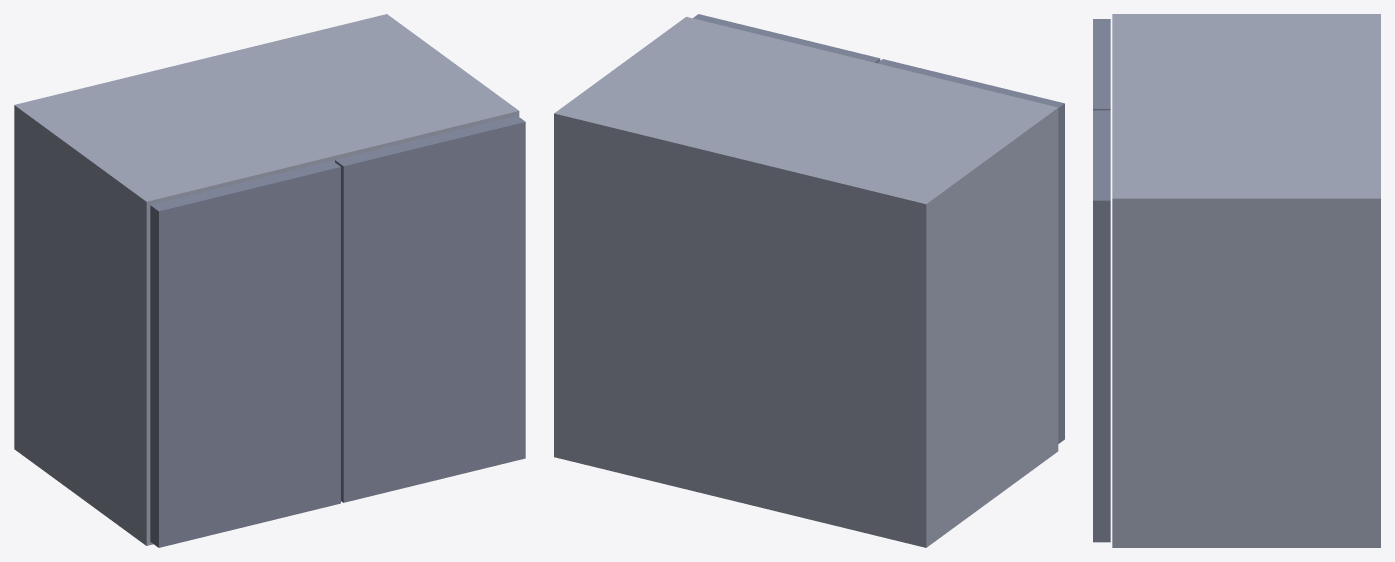
Rendered from wall-cabinet.fbx.
3 views of the same model, side by side, from view 1: azimuth 30°, elevation 25°; view 2: azimuth 150°, elevation 25°; view 3: azimuth 270°, elevation 25° (orthographic).
Parts seen in each view (by area): view 1: above_counter_cabinet, R_door, L_door; view 2: above_counter_cabinet, R_door, L_door; view 3: above_counter_cabinet, L_door, R_door.
Part boxes in pixels (bbox=[...]): above_counter_cabinet: bbox=[14, 14, 519, 545]; R_door: bbox=[150, 160, 340, 547]; L_door: bbox=[335, 115, 525, 502]; above_counter_cabinet: bbox=[554, 16, 1058, 547]; R_door: bbox=[877, 59, 1064, 443]; L_door: bbox=[693, 14, 880, 62]; above_counter_cabinet: bbox=[1112, 14, 1380, 547]; L_door: bbox=[1093, 110, 1110, 542]; R_door: bbox=[1093, 19, 1110, 110].
Bounding box in the file's own units: 100 × 88.25 × 65.86.
